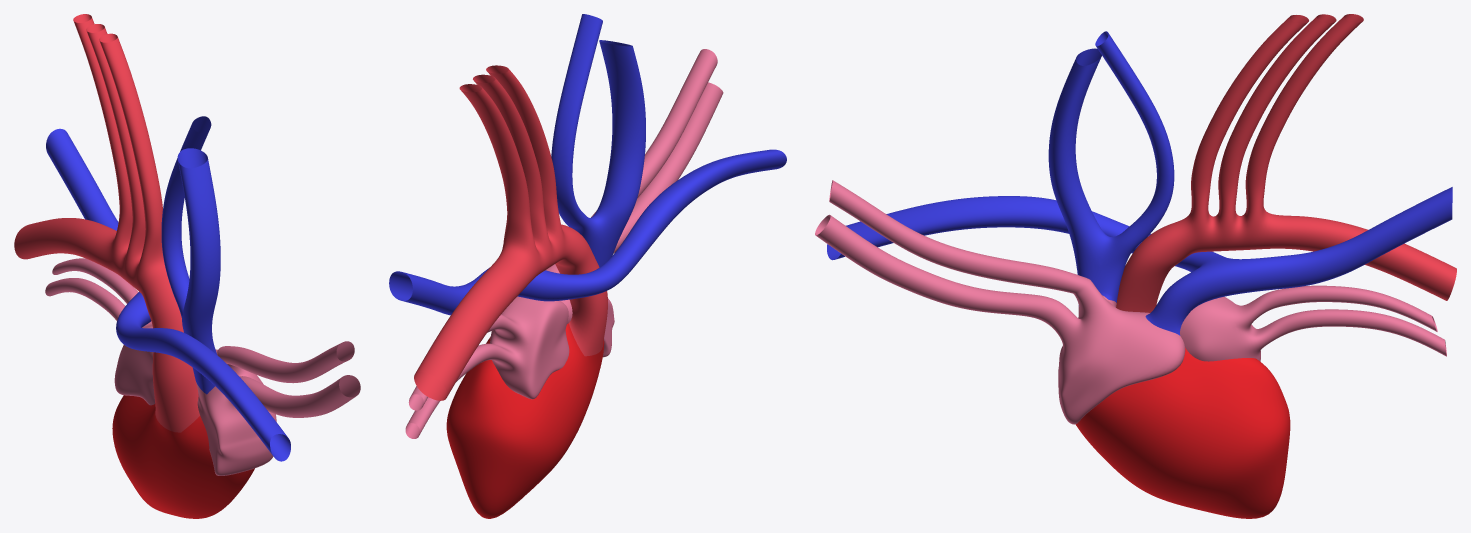
File: O'CORE_New.fbx
3 views of the same model, side by side, from view 1: azimuth 30°, elevation 25°; view 2: azimuth 150°, elevation 25°; view 3: azimuth 270°, elevation 25° (orthographic). The views are drawn at different scales.
Parts seen in each view (by area): view 1: Cube.002; view 2: Cube.002; view 3: Cube.002.
Boxes of the visible parts, left/top/right/bottom form: Cube.002: left=14, top=14, right=360, bottom=518; Cube.002: left=389, top=14, right=786, bottom=518; Cube.002: left=815, top=14, right=1456, bottom=518.
Size of the model in its own units: 4927 by 15851 by 18972.
